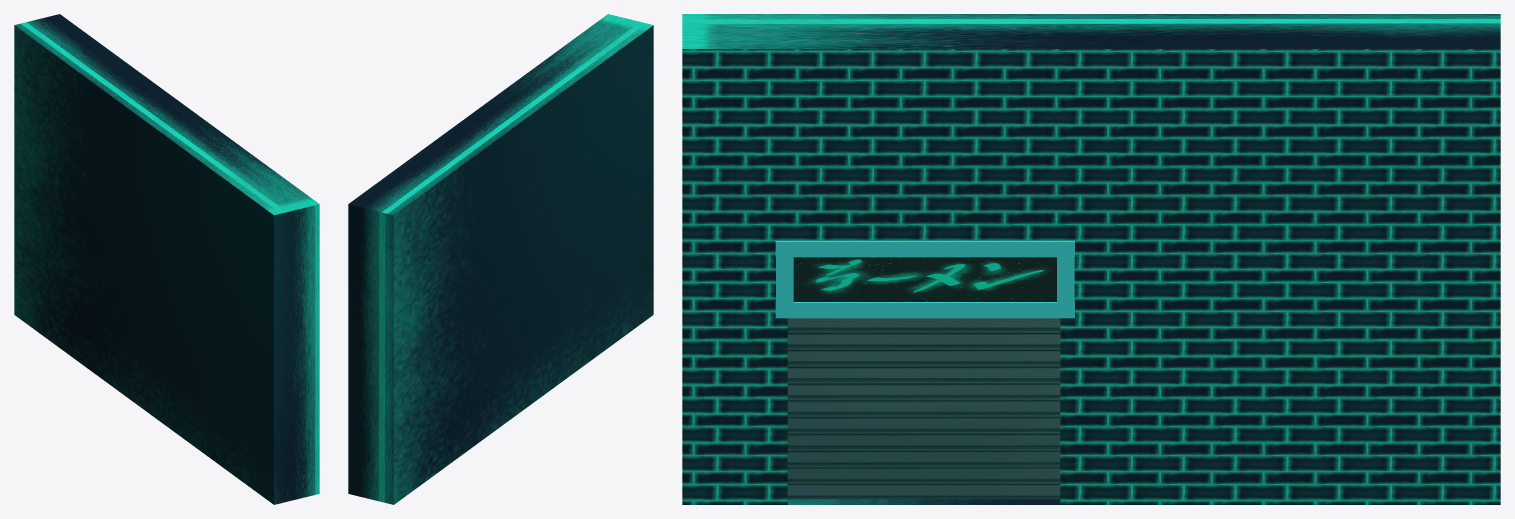
Rendered from wall1.fbx.
3 views of the same model, side by side, from view 1: azimuth 30°, elevation 25°; view 2: azimuth 150°, elevation 25°; view 3: azimuth 270°, elevation 25° (orthographic). The views are drawn at different scales.
Parts seen in each view (by area): view 1: Cube.003; view 2: Cube.003; view 3: Cube.003.
Boxes of the visible parts, left/top/right/bottom form: Cube.003: left=14, top=14, right=319, bottom=504; Cube.003: left=348, top=14, right=653, bottom=504; Cube.003: left=682, top=14, right=1500, bottom=504.
Bounding box in the file's own units: 129 × 760 × 1236.
